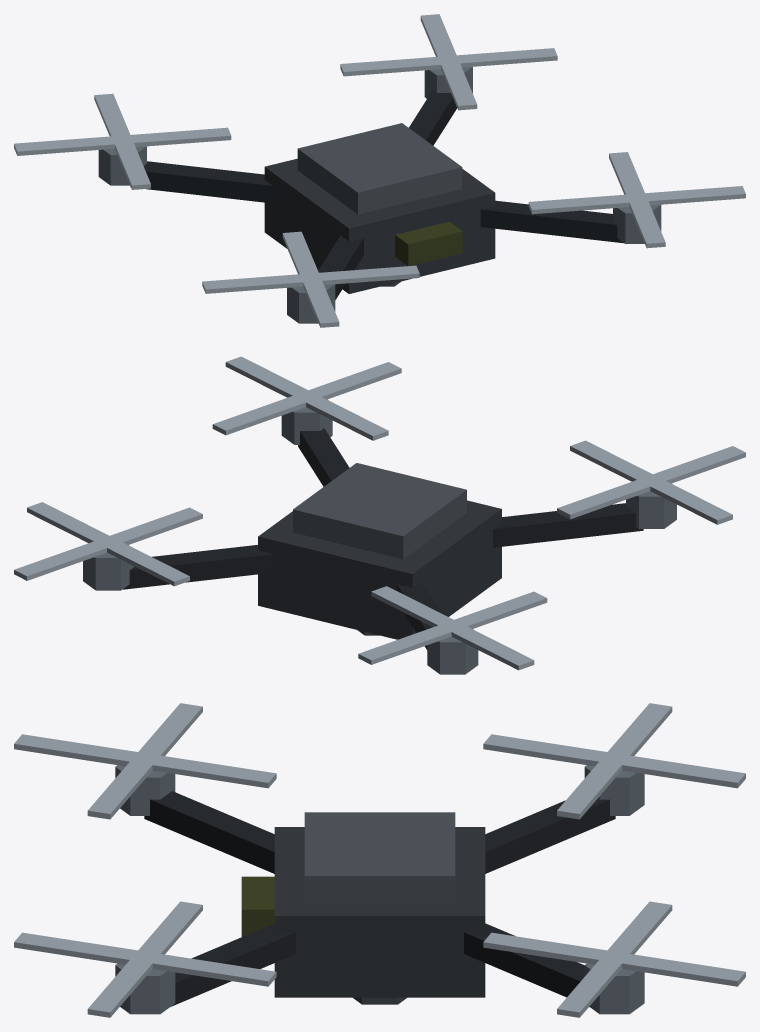
The model's file is prop_drone.fbx.
3 renders of one model, top to bottom at view 1: azimuth 30°, elevation 25°; view 2: azimuth 150°, elevation 25°; view 3: azimuth 270°, elevation 25°, orthographic. The views are drawn at different scales.
Parts seen in each view (by area): view 1: prop_drone; view 2: prop_drone; view 3: prop_drone.
Part boxes in pixels (x1=…): prop_drone: x1=14, y1=14, x2=745, y2=327; prop_drone: x1=14, y1=356, x2=745, y2=674; prop_drone: x1=14, y1=703, x2=745, y2=1017.
Size of the model in its own units: 243 by 54 by 243.
